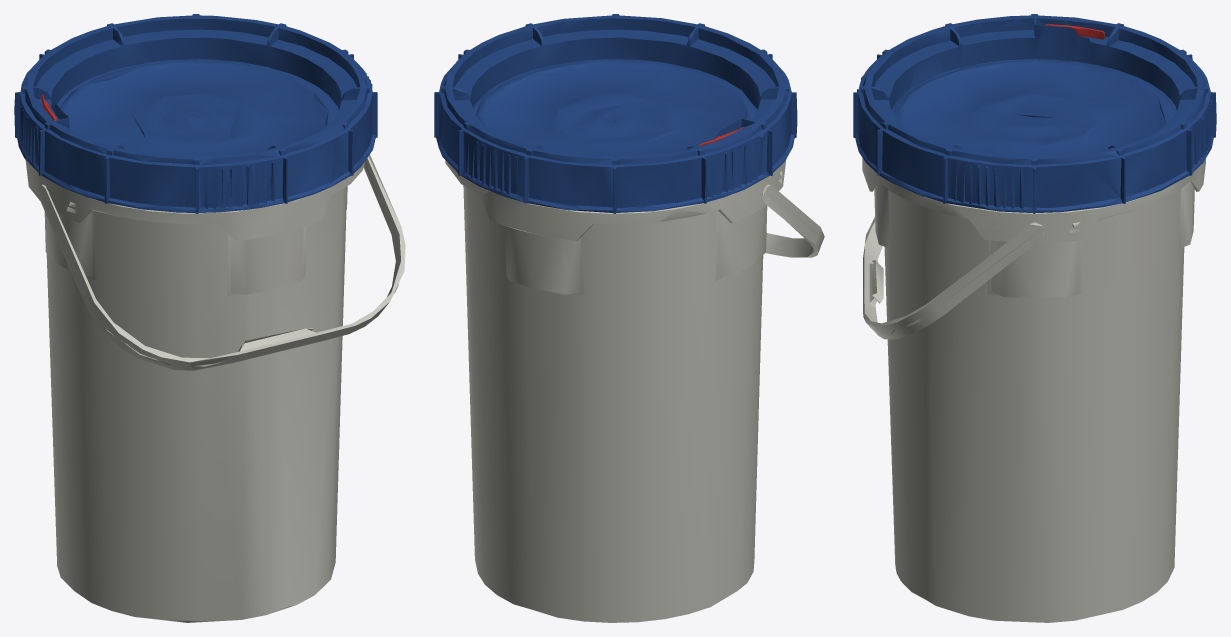
File: screwtoppail_a04.glb
The picture shows the model from 3 angles, left to right: view 1: azimuth 30°, elevation 25°; view 2: azimuth 150°, elevation 25°; view 3: azimuth 270°, elevation 25°; orthographic projection.
Visible parts, largest first — view 1: root, lid; view 2: root, lid; view 3: root, lid.
Boxes of the visible parts, bbox=[...] form: root: bbox=[25, 154, 405, 622]; lid: bbox=[14, 14, 377, 213]; root: bbox=[445, 159, 824, 622]; lid: bbox=[434, 14, 797, 213]; root: bbox=[862, 158, 1205, 622]; lid: bbox=[853, 14, 1216, 213].
Bounding box in the file's own units: 0.328 × 0.4781 × 0.3288.
3 materials, 3 textured.
